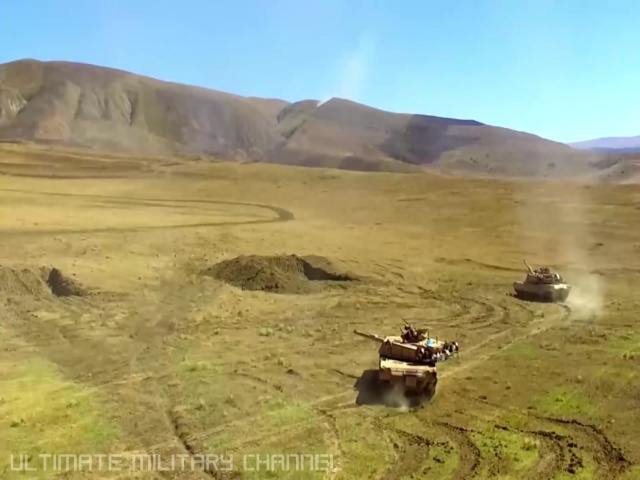vehicle: (374, 327, 442, 398), (511, 268, 575, 301)
